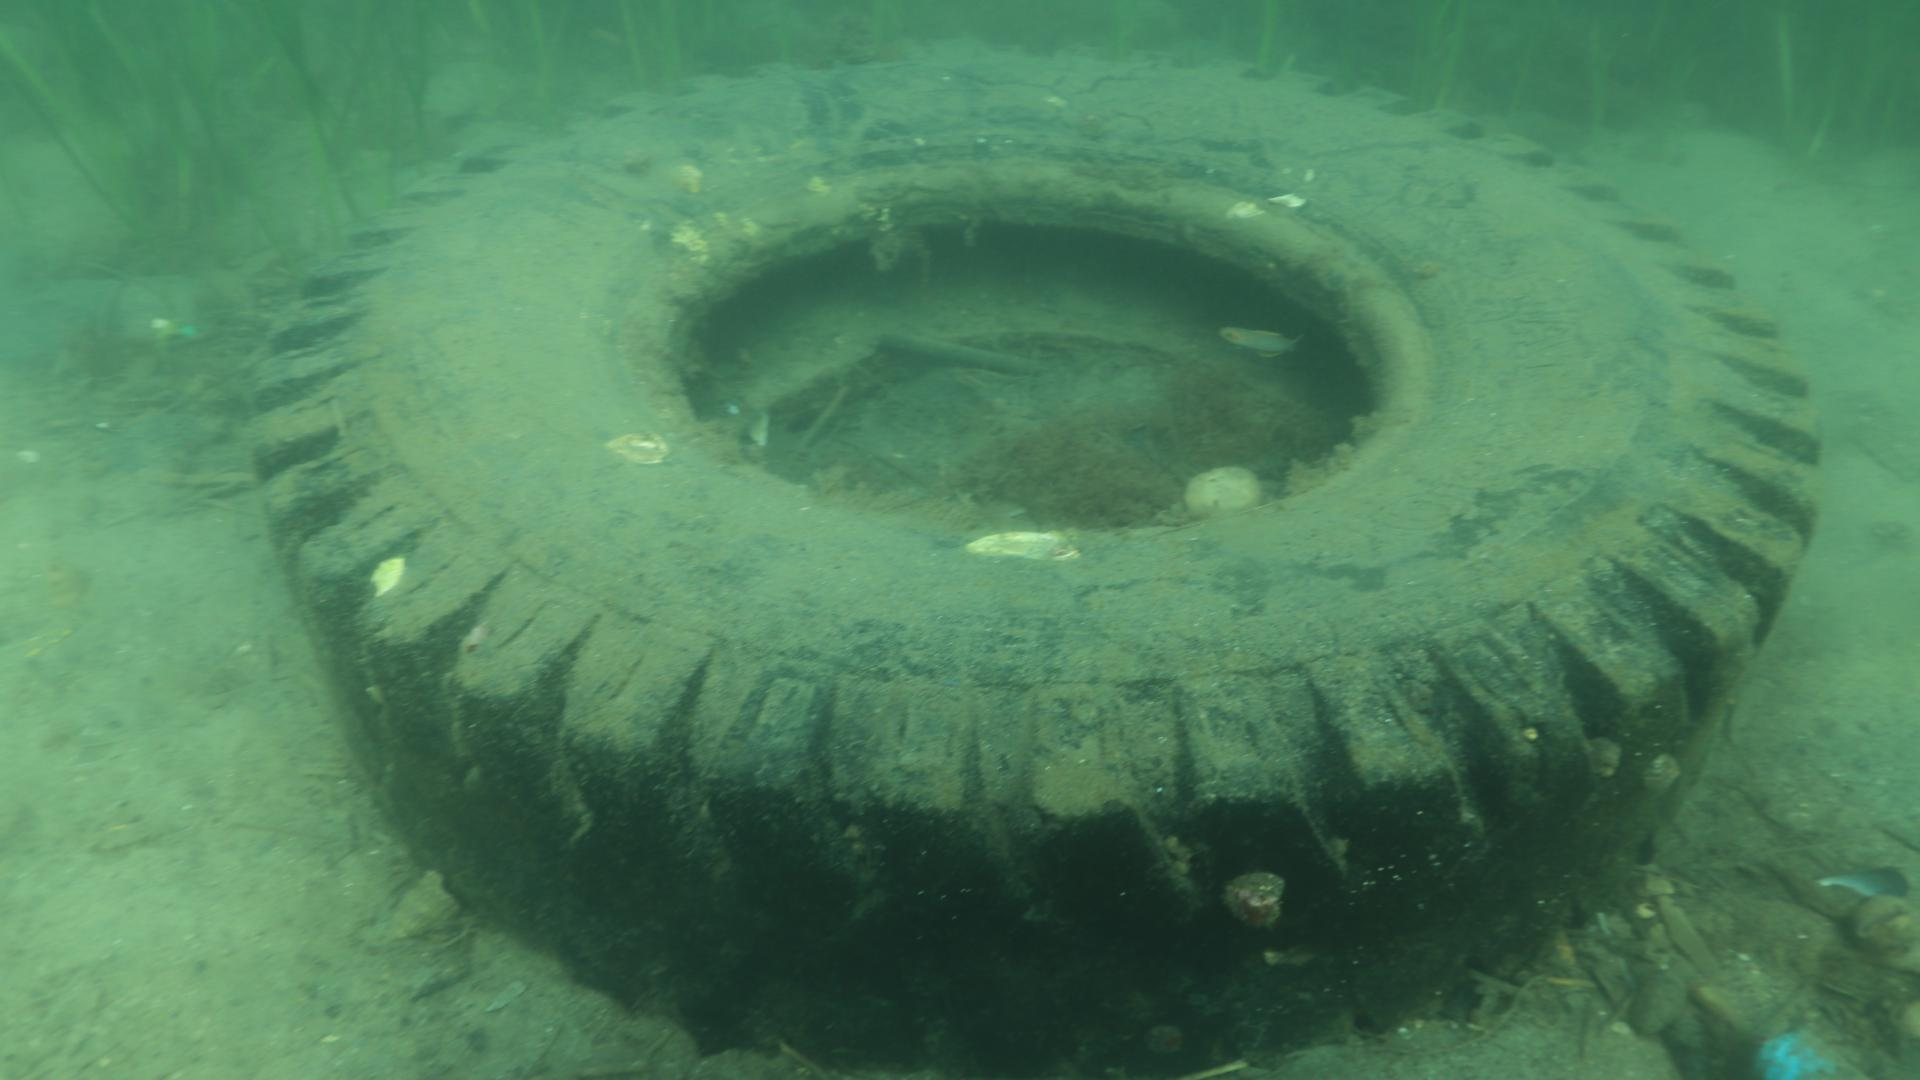tire: (252, 54, 1821, 1080)
